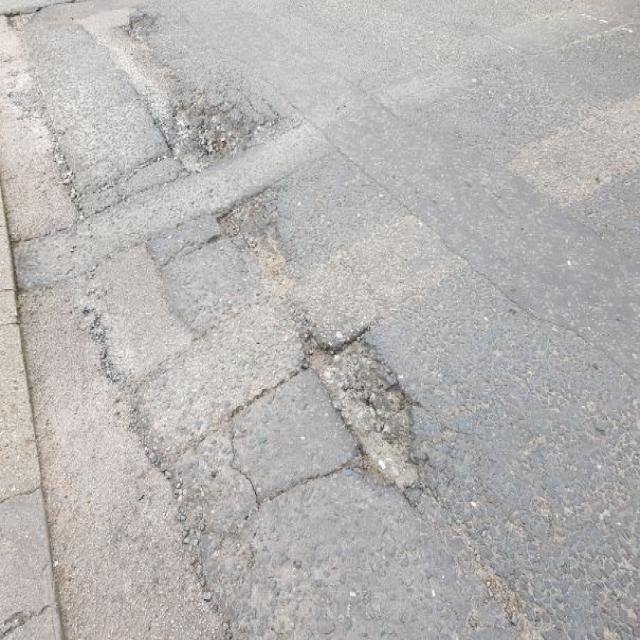pothole: (291, 323, 434, 506), (209, 188, 290, 274), (172, 88, 264, 156), (113, 8, 159, 44), (0, 4, 38, 31)
